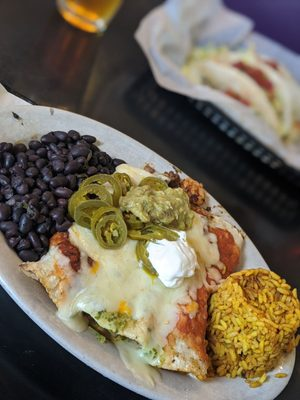pizza: (54, 0, 125, 36)
